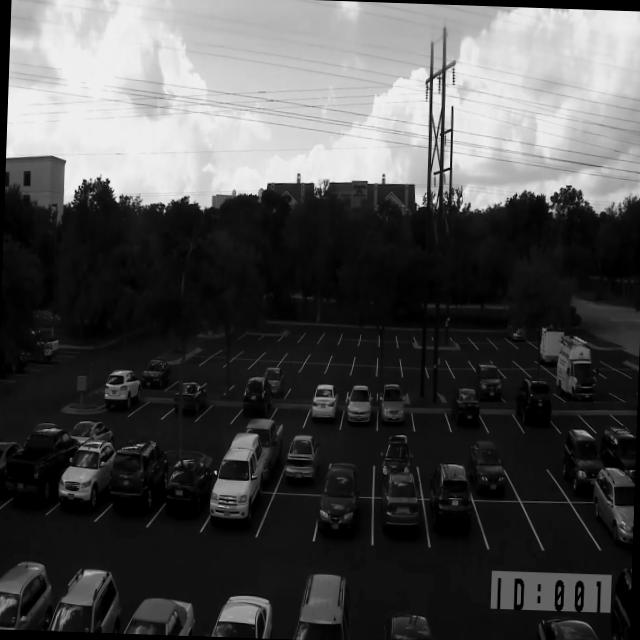car: (554, 441, 616, 503), (425, 496, 484, 556), (235, 424, 287, 492), (204, 490, 264, 546), (316, 492, 373, 550), (372, 496, 427, 554), (585, 492, 633, 557), (104, 485, 163, 534), (371, 444, 420, 500), (168, 465, 210, 525), (8, 475, 60, 520), (514, 388, 559, 439), (447, 388, 488, 439), (535, 614, 615, 640), (19, 421, 69, 461), (376, 390, 414, 438), (66, 466, 105, 512), (552, 370, 596, 409), (234, 389, 276, 428), (170, 388, 208, 430), (342, 392, 378, 435), (102, 385, 140, 422), (304, 398, 342, 433), (0, 436, 16, 485), (139, 369, 170, 393), (261, 376, 288, 399), (108, 366, 136, 386), (535, 348, 559, 369)
free: (478, 496, 538, 558), (260, 489, 317, 548), (414, 445, 469, 501), (323, 442, 377, 498), (504, 452, 560, 504), (532, 508, 592, 552), (411, 393, 452, 442), (480, 396, 522, 442), (549, 399, 589, 438), (133, 391, 174, 428), (270, 399, 310, 430), (202, 398, 240, 429), (48, 408, 82, 438), (497, 374, 529, 400), (614, 402, 637, 436), (286, 380, 318, 400), (525, 362, 555, 383), (167, 378, 202, 396), (320, 381, 350, 402), (348, 379, 379, 398), (511, 342, 538, 363), (377, 379, 405, 398), (474, 362, 501, 381), (202, 380, 234, 396), (121, 361, 144, 383), (325, 360, 353, 376), (193, 336, 218, 353), (444, 353, 470, 369), (351, 361, 377, 377), (249, 360, 273, 377), (400, 364, 428, 378), (143, 355, 166, 372), (278, 359, 304, 374), (162, 346, 186, 362), (421, 346, 442, 364), (238, 344, 262, 359), (376, 353, 401, 367), (429, 365, 454, 379), (207, 353, 230, 368), (397, 344, 421, 358), (304, 352, 331, 364), (184, 352, 207, 366), (395, 328, 417, 342), (356, 336, 379, 349), (319, 332, 341, 345), (378, 334, 398, 348), (261, 348, 284, 360), (419, 332, 438, 346), (492, 339, 515, 350), (263, 324, 283, 336), (454, 338, 475, 349), (282, 330, 302, 341), (436, 337, 455, 348), (242, 331, 262, 341)
